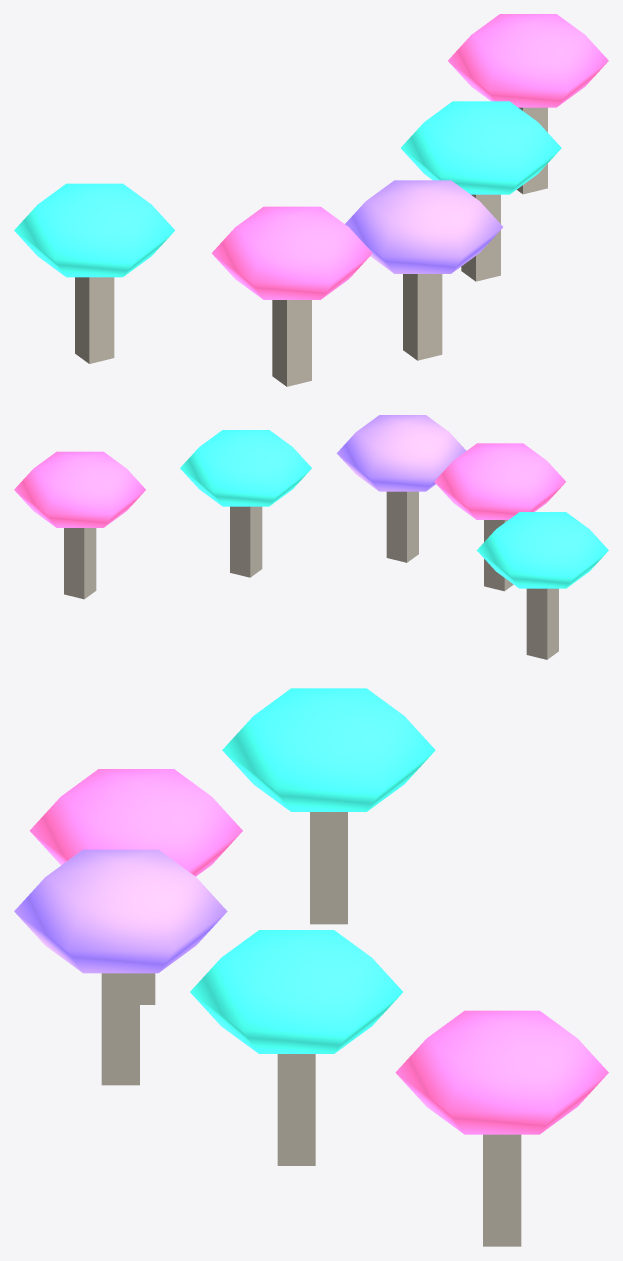
The model's file is prop-mush.glb.
3 renders of one model, top to bottom at view 1: azimuth 30°, elevation 25°; view 2: azimuth 150°, elevation 25°; view 3: azimuth 270°, elevation 25°, orthographic. The views are drawn at different scales.
Parts seen in each view (by area): view 1: 02_#ff70c0, 01_#40e0d0, 00_#e8e0d0_r110, 03_#a080ff; view 2: 01_#40e0d0, 02_#ff70c0, 00_#e8e0d0_r110, 03_#a080ff; view 3: 01_#40e0d0, 02_#ff70c0, 03_#a080ff, 00_#e8e0d0_r110.
Part boxes in pixels (left/top/right/bottom): 02_#ff70c0: left=211, top=14, right=608, bottom=299; 01_#40e0d0: left=14, top=101, right=561, bottom=277; 00_#e8e0d0_r110: left=75, top=107, right=547, bottom=386; 03_#a080ff: left=345, top=180, right=502, bottom=273; 01_#40e0d0: left=180, top=430, right=608, bottom=588; 02_#ff70c0: left=14, top=443, right=565, bottom=527; 00_#e8e0d0_r110: left=64, top=491, right=558, bottom=659; 03_#a080ff: left=336, top=415, right=466, bottom=491; 01_#40e0d0: left=190, top=688, right=435, bottom=1053; 02_#ff70c0: left=29, top=769, right=608, bottom=1134; 03_#a080ff: left=14, top=849, right=227, bottom=973; 00_#e8e0d0_r110: left=101, top=812, right=521, bottom=1246.
Size of the model in its own units: 1.24 by 0.31 by 0.7798.
